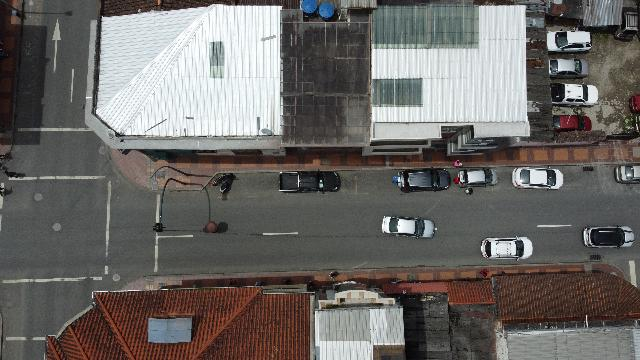Vehiculo: (393, 168, 451, 192), (279, 170, 341, 192), (382, 215, 436, 239), (481, 236, 533, 260), (511, 167, 563, 189), (582, 226, 634, 248), (550, 84, 598, 106), (546, 30, 592, 52), (458, 167, 498, 187), (549, 58, 589, 78), (553, 114, 591, 132), (614, 164, 640, 184)
